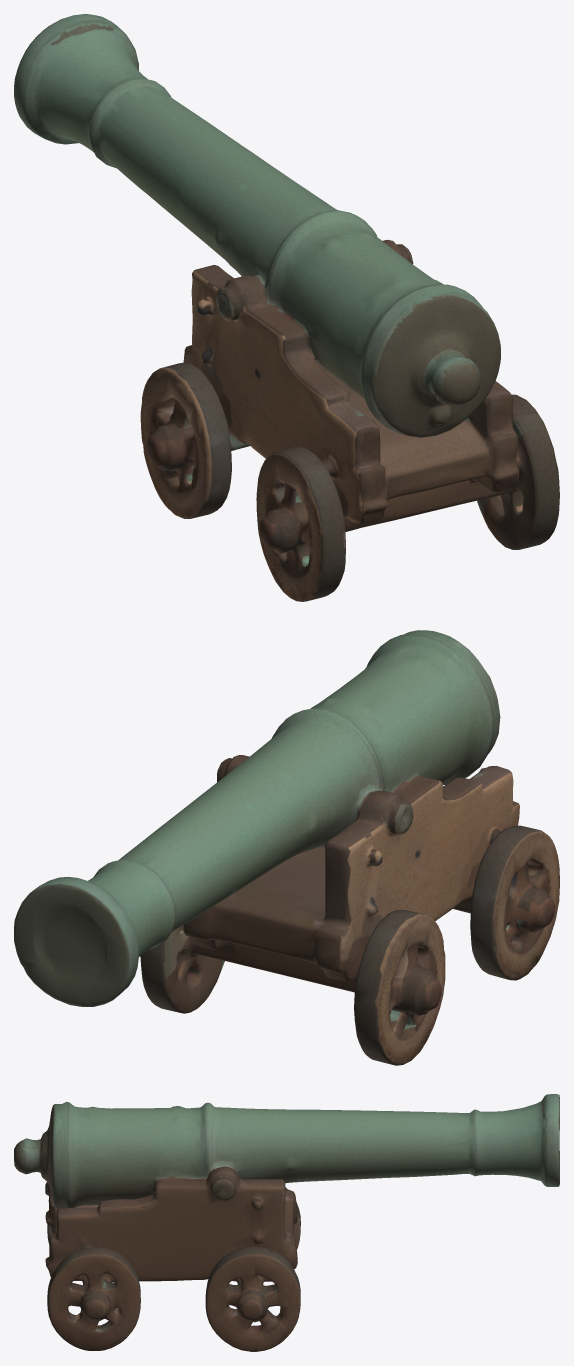
The model's file is canon.glb.
3 renders of one model, top to bottom at view 1: azimuth 30°, elevation 25°; view 2: azimuth 150°, elevation 25°; view 3: azimuth 270°, elevation 25°, orthographic. The views are drawn at different scales.
Visible parts, largest first — view 1: temp_mesh.ply; view 2: temp_mesh.ply; view 3: temp_mesh.ply.
Part boxes in pixels (x1=…): temp_mesh.ply: x1=14, y1=14, x2=559, y2=601; temp_mesh.ply: x1=14, y1=630, x2=559, y2=1065; temp_mesh.ply: x1=14, y1=1094, x2=559, y2=1351.
Bounding box in the file's own units: 0.7901 × 0.8219 × 1.9.
Materials: 1 (1 with a texture image).
